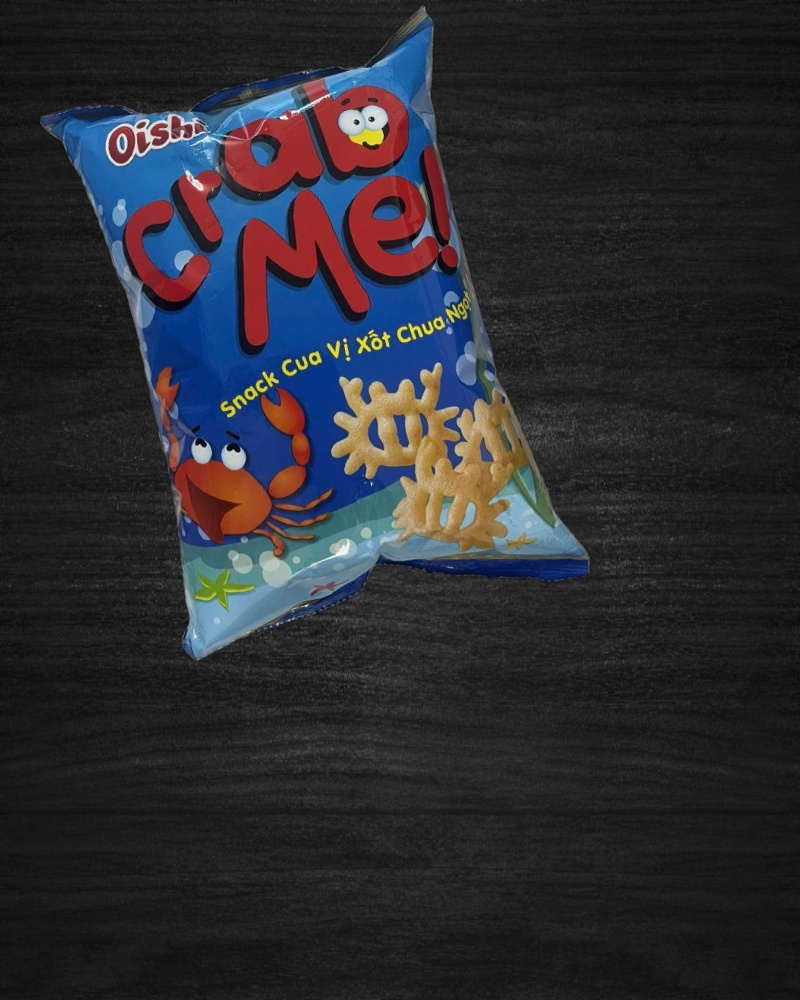Snack chay: (37, 1, 595, 683)
